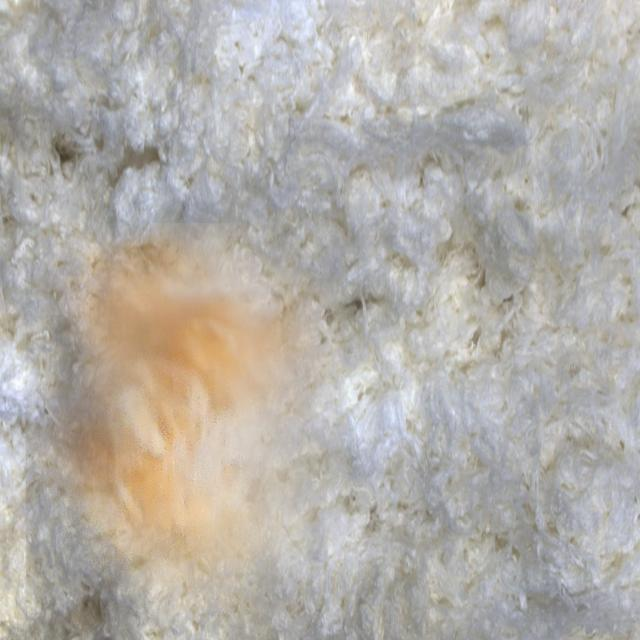dust: (26, 223, 347, 640)
